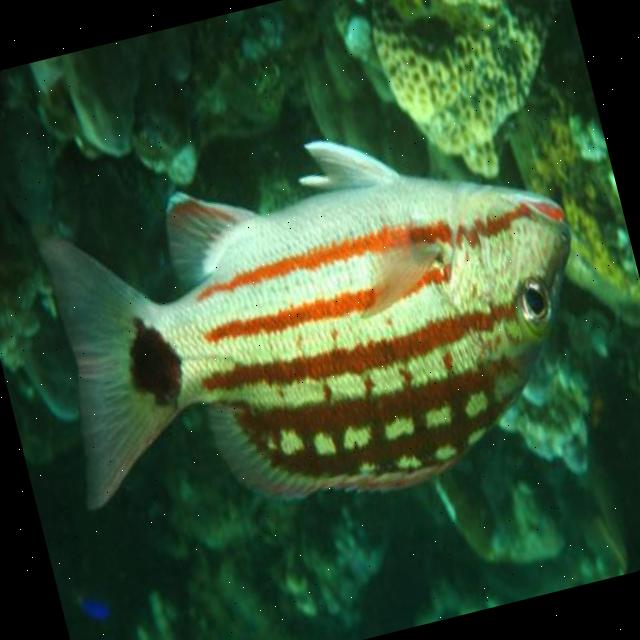ikan: (13, 83, 623, 567)
